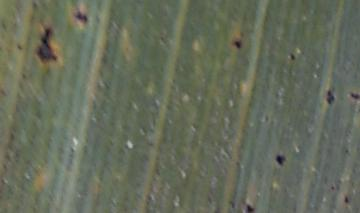tarspot: (36, 27, 58, 63), (73, 10, 89, 22), (326, 88, 336, 104), (232, 38, 242, 49), (349, 91, 360, 101), (276, 154, 285, 166), (246, 203, 255, 213), (229, 199, 237, 210), (289, 52, 297, 61), (16, 43, 24, 51), (344, 195, 350, 204), (330, 184, 335, 192)
